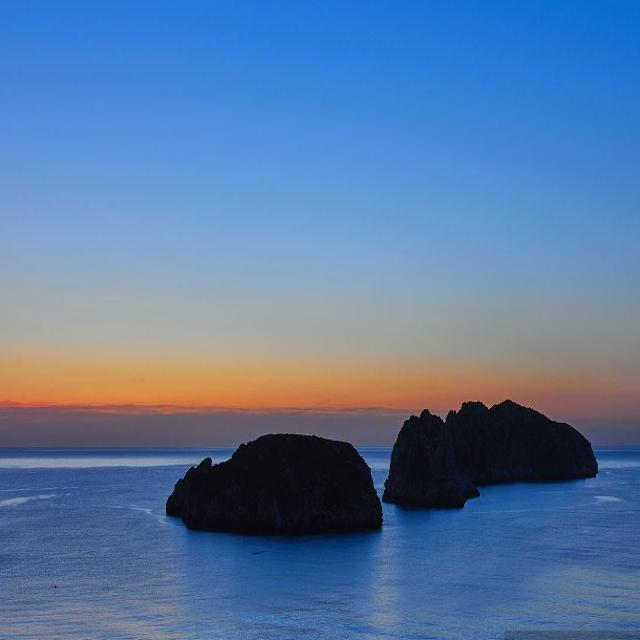island: (160, 384, 603, 546)
